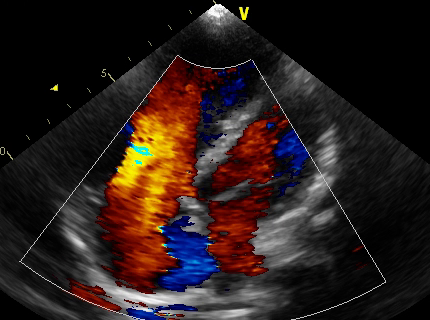TR: (134, 195, 196, 253)
